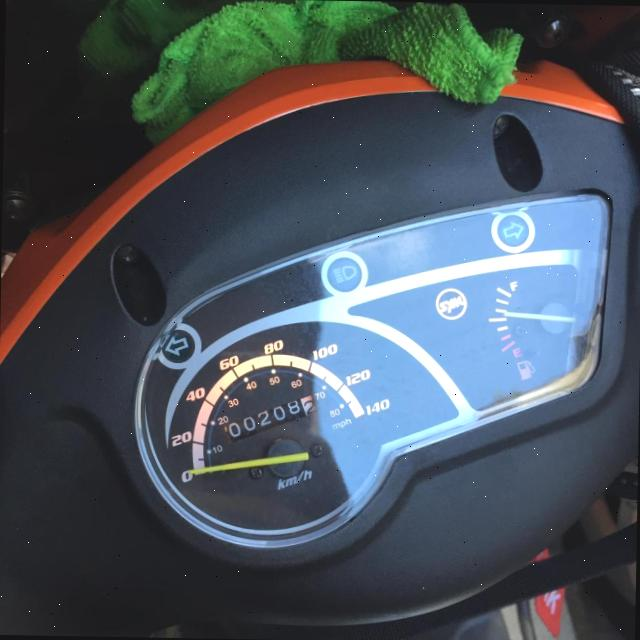odometer: (222, 392, 317, 444)
